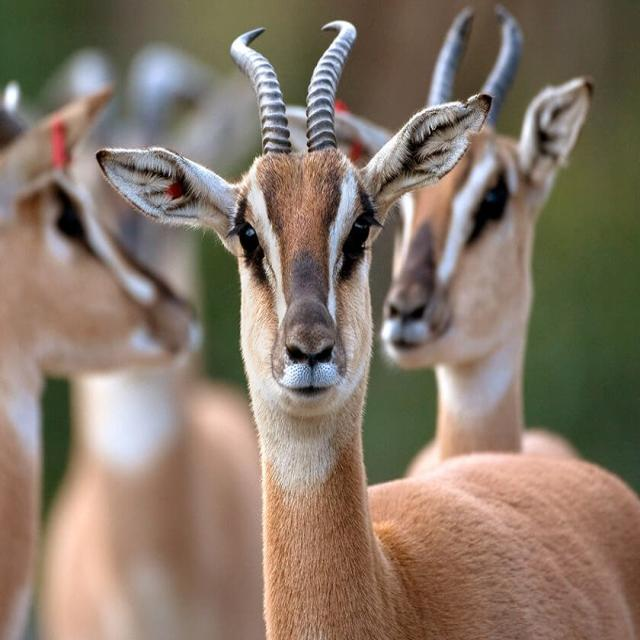Antelope: (93, 10, 640, 640), (384, 7, 620, 446)
